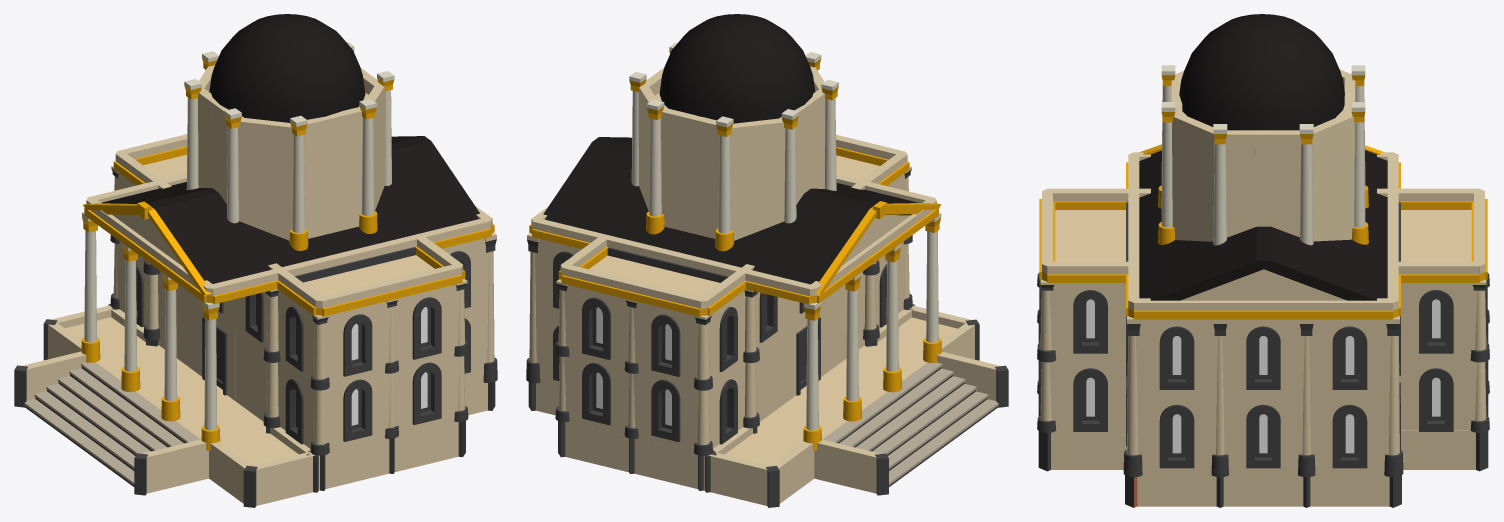
The model's file is capitole.glb.
3 renders of one model, left to right at view 1: azimuth 30°, elevation 25°; view 2: azimuth 150°, elevation 25°; view 3: azimuth 270°, elevation 25°, orthographic. The views are drawn at different scales.
Visible parts, largest first — view 1: mergedBlocks(Clone); view 2: mergedBlocks(Clone); view 3: mergedBlocks(Clone).
Part boxes in pixels (<box>): mergedBlocks(Clone): <box>14,14,497,507</box>; mergedBlocks(Clone): <box>526,14,1008,507</box>; mergedBlocks(Clone): <box>1037,14,1489,507</box>.
Bounding box in the file's own units: 5.22 × 5.21 × 5.24.
Materials: 1 (1 with a texture image).
